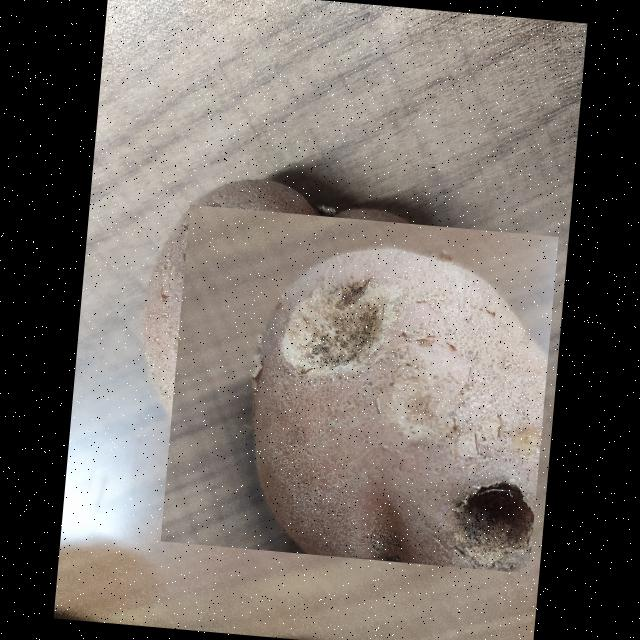Damaged potato: (161, 203, 558, 572)
